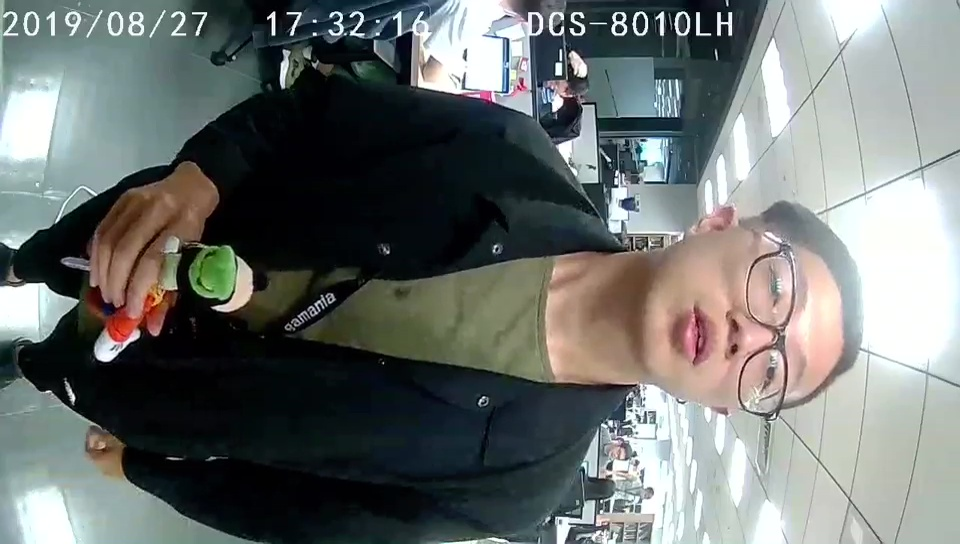goofy: (92, 239, 255, 363)
